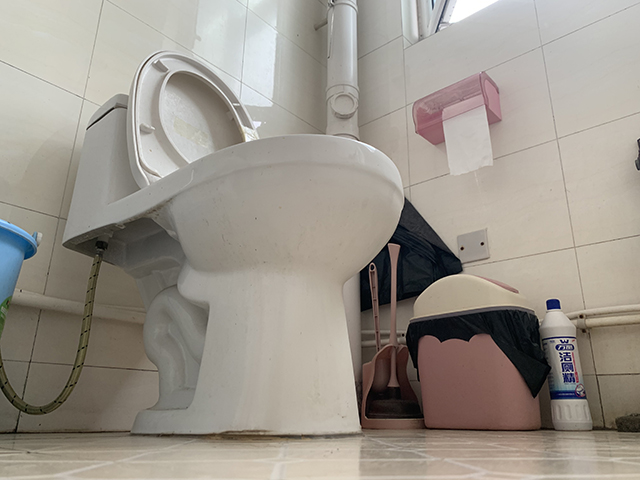closestool: (60, 49, 407, 440)
trashcan: (405, 271, 543, 430)
